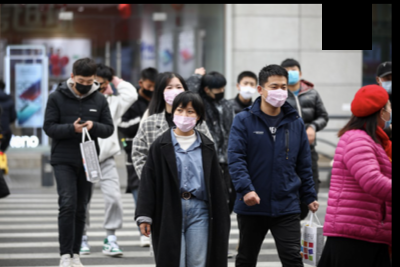with_mask: (172, 104, 198, 132), (262, 80, 288, 106), (162, 81, 186, 106), (73, 75, 95, 95), (239, 79, 258, 98), (283, 65, 300, 85), (379, 75, 392, 95), (141, 81, 156, 97), (210, 85, 225, 100)
